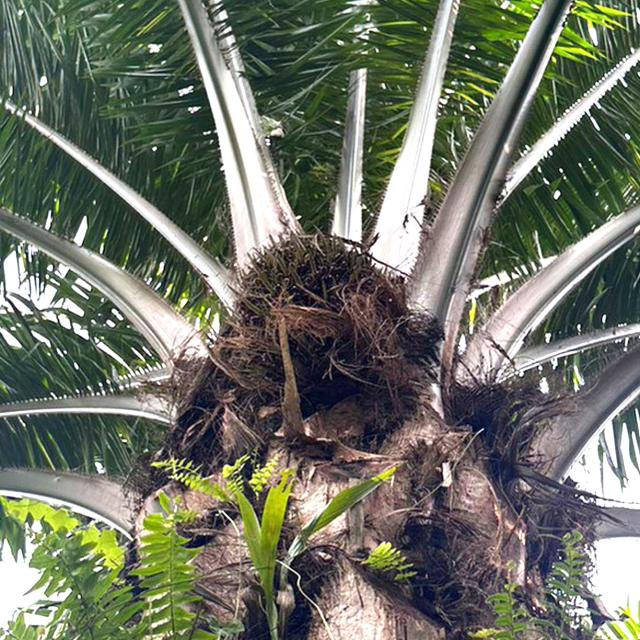unripe: (219, 222, 443, 447)
